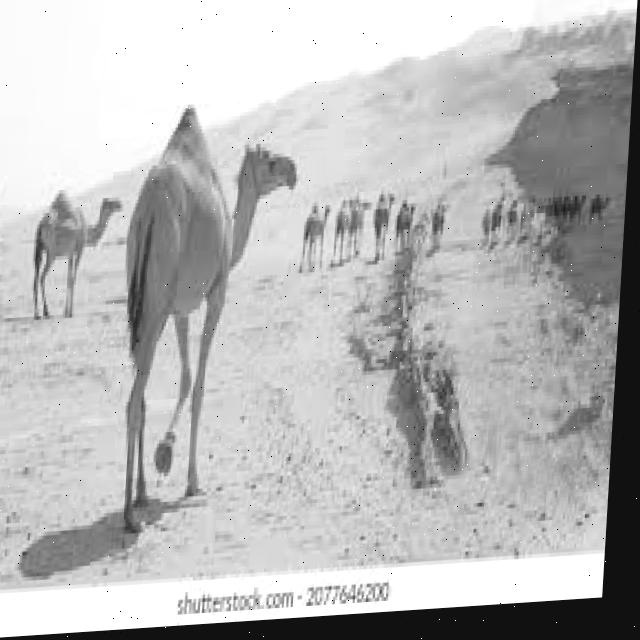Camel: (107, 94, 301, 531), (28, 182, 124, 321)
